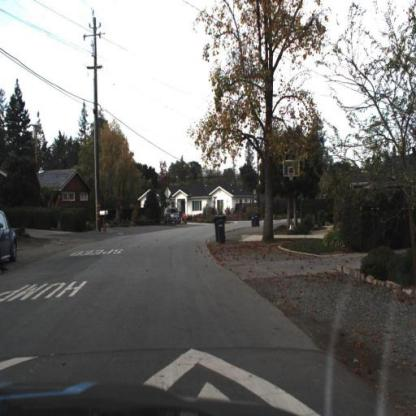car: (1, 206, 19, 267), (162, 203, 183, 228), (178, 207, 190, 228)
pedestrian: (224, 206, 231, 224)
